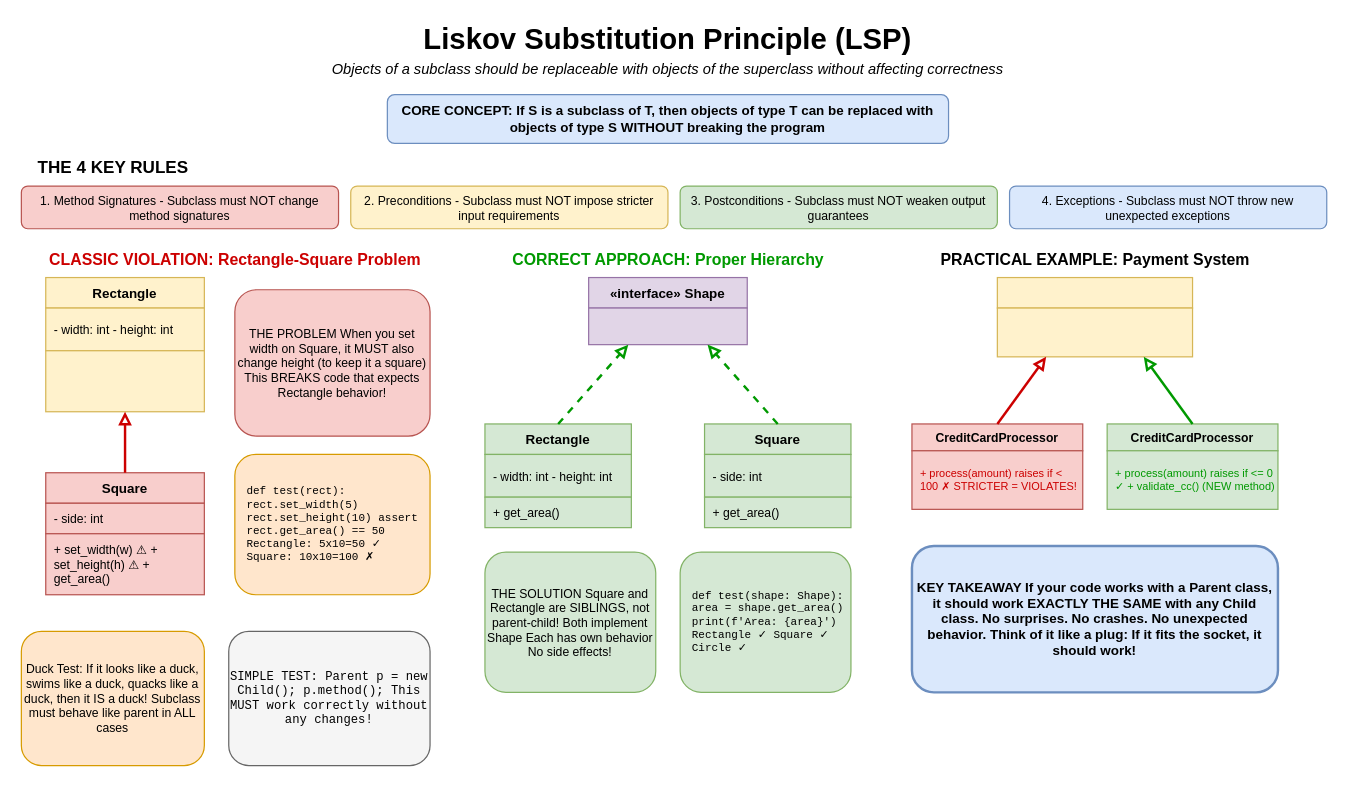
This 1348x787 diagram has some shape labels left out. The shapes that lost their labels are listed below. From the top down, each one's centre as x and y in pixels, then its label:
At pixel 1094 292: "PaymentProcessor".
At pixel 667 326: "+ get_area(): int".
At pixel 1094 332: "+ process(amount) raises ValueError if <= 0".
At pixel 124 381: "+ set_width(w) + set_height(h) + get_area()".
